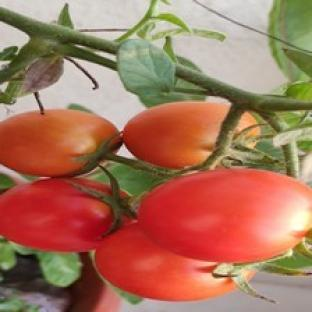Tomato: (138, 169, 311, 261), (95, 225, 236, 300), (0, 179, 112, 252), (0, 109, 118, 176), (123, 102, 229, 168), (69, 254, 121, 311)
